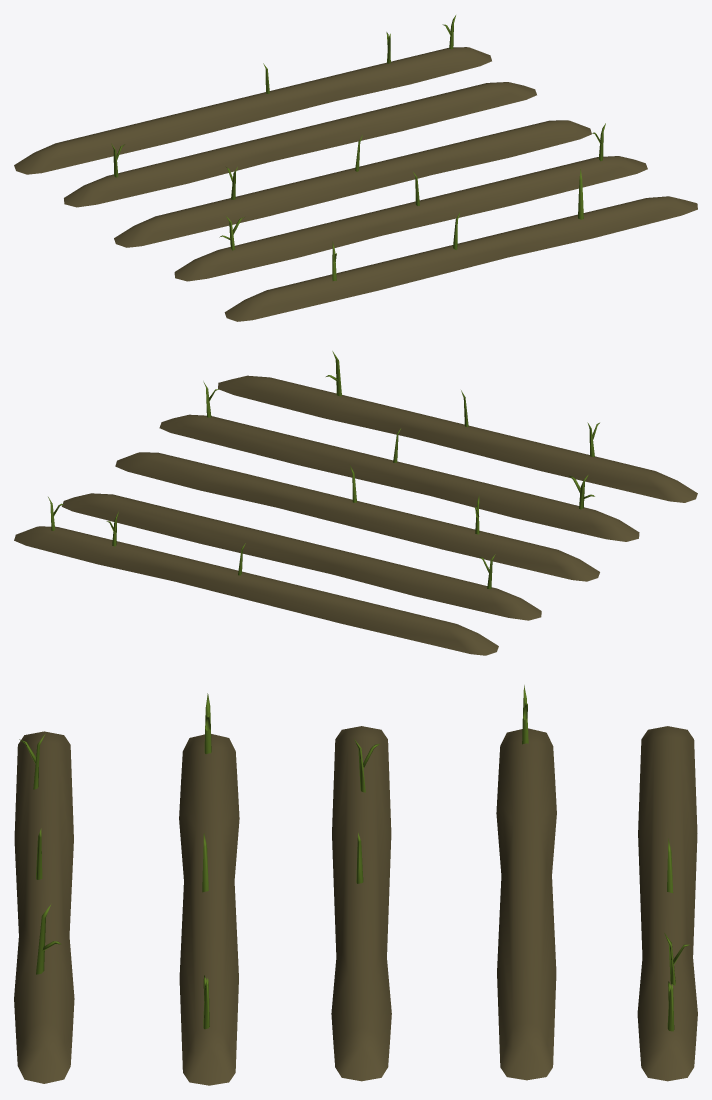
Rendered from Farm_Growth.glb.
3 views of the same model, one above another, from view 1: azimuth 30°, elevation 25°; view 2: azimuth 150°, elevation 25°; view 3: azimuth 270°, elevation 25° (orthographic). The views are drawn at different scales.
Visible parts, largest first — view 1: Farm_Dirt_Level2; view 2: Farm_Dirt_Level2; view 3: Farm_Dirt_Level2.
Part boxes in pixels (x1=…): Farm_Dirt_Level2: x1=14, y1=15, x2=697, y2=321; Farm_Dirt_Level2: x1=14, y1=351, x2=697, y2=655; Farm_Dirt_Level2: x1=14, y1=685, x2=697, y2=1085.
Bounding box in the file's own units: 1.79 × 0.2202 × 1.44.
